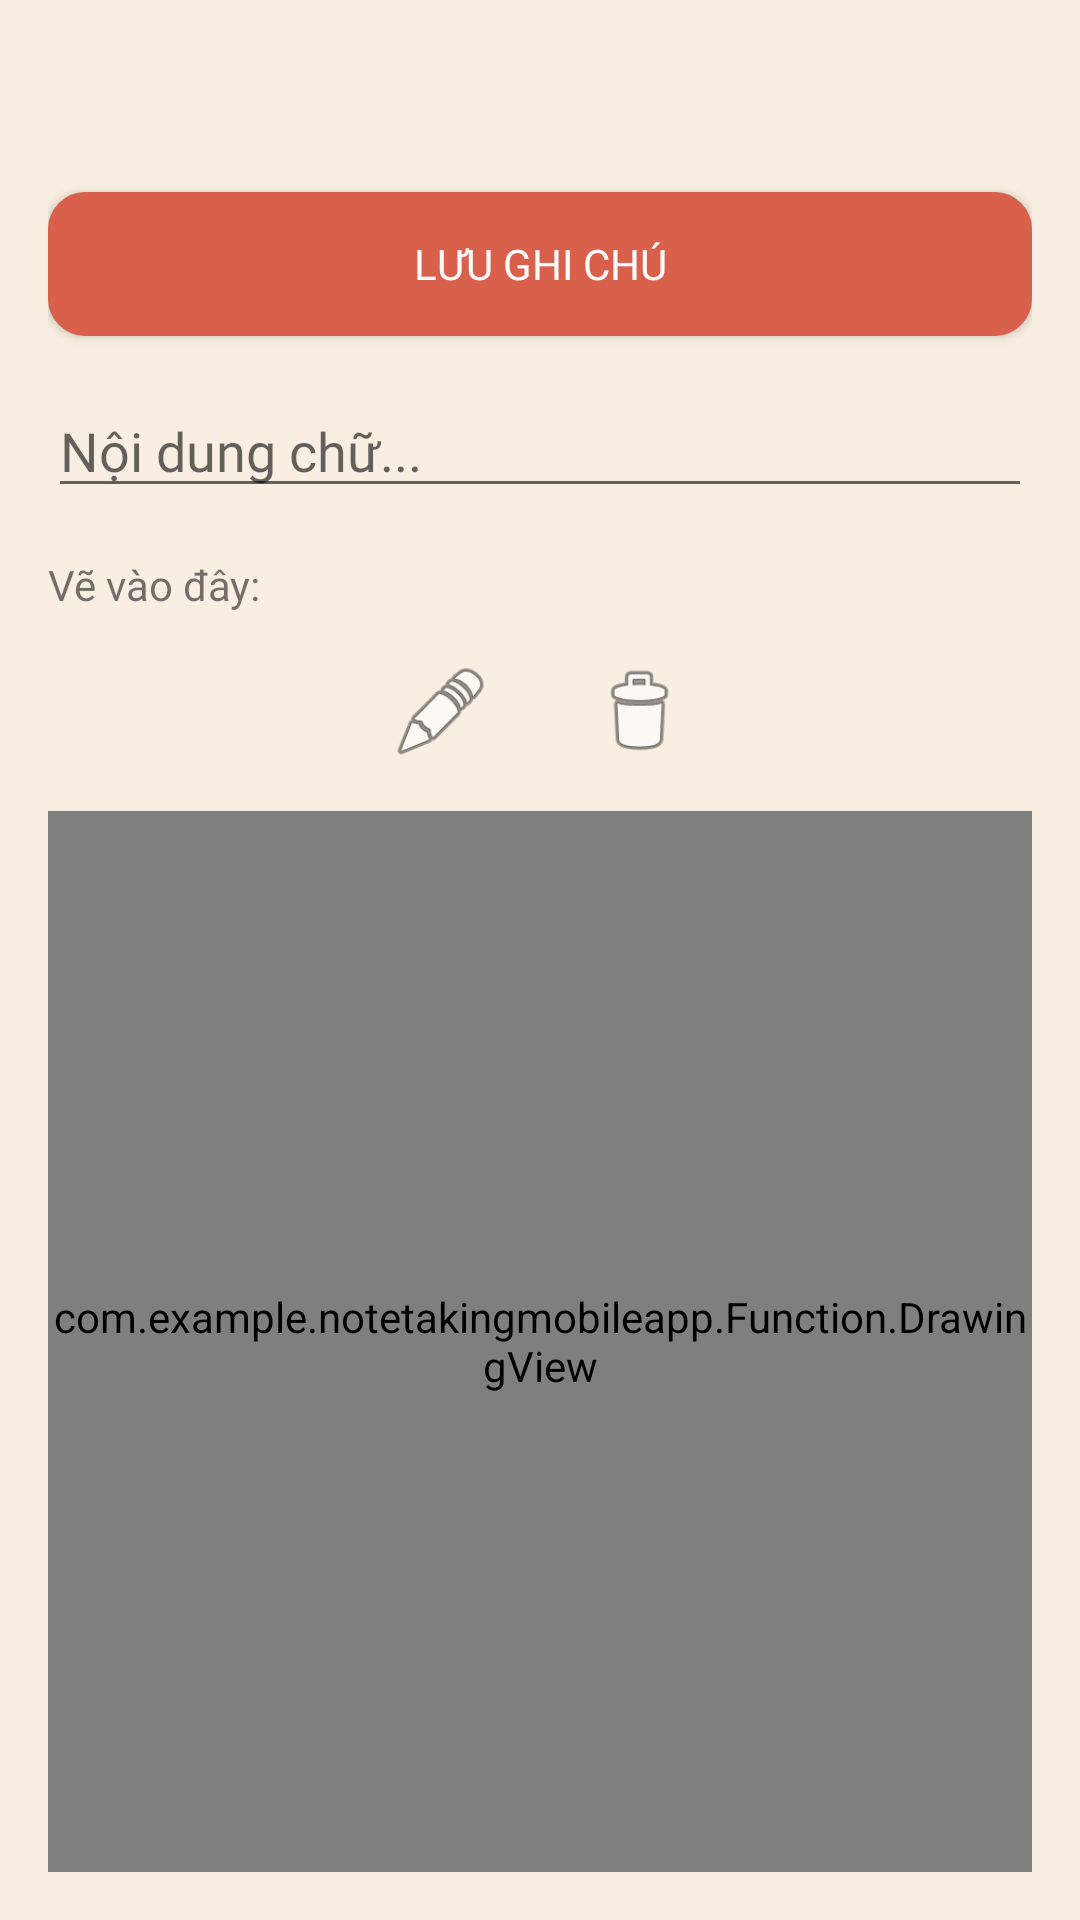

Icon bounding boxes for this 1080x1920 phone screenshot, format (x1, y1, x2, y2):
delete: (610, 670, 669, 751)
edit: (397, 668, 484, 755)
